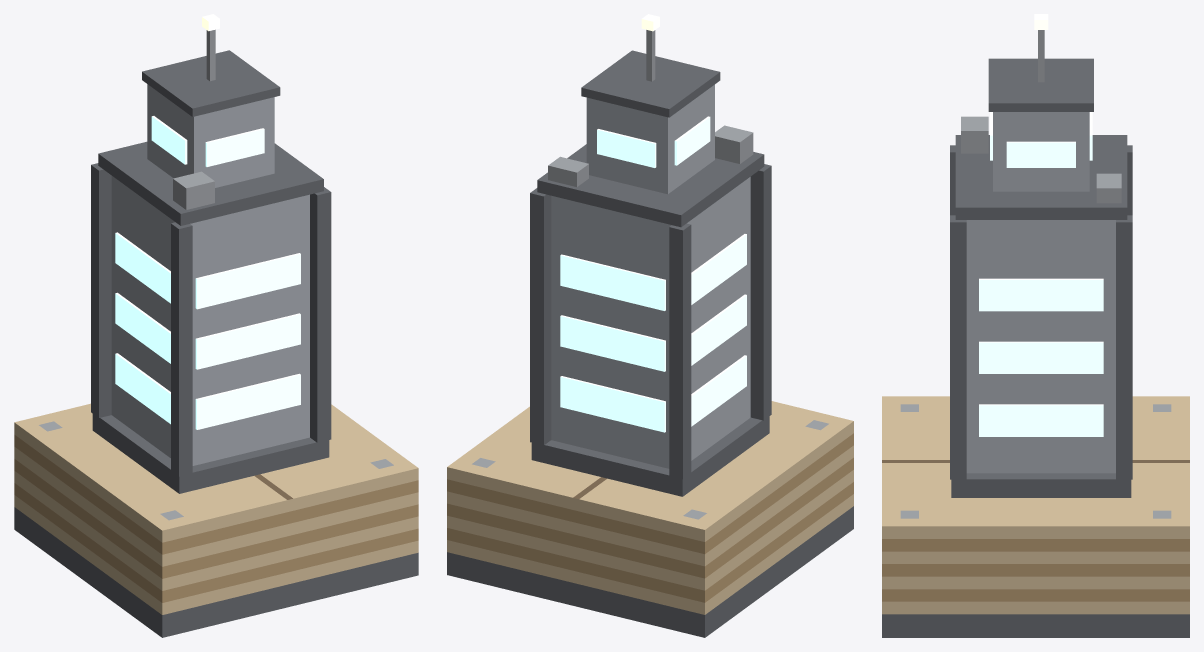
Rendered from PlywoodTile_Building1.fbx.
3 views of the same model, side by side, from view 1: azimuth 30°, elevation 25°; view 2: azimuth 150°, elevation 25°; view 3: azimuth 270°, elevation 25° (orthographic). The views are drawn at different scales.
Visible parts, largest first — view 1: PlywoodTile_Building1; view 2: PlywoodTile_Building1; view 3: PlywoodTile_Building1.
Part boxes in pixels (x1,y1,x2,y2): PlywoodTile_Building1: [14, 14, 418, 637]; PlywoodTile_Building1: [447, 14, 853, 637]; PlywoodTile_Building1: [882, 14, 1189, 637].
Size of the model in its own units: 1 by 1.99 by 1.
